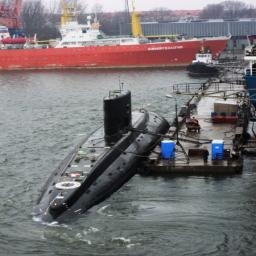submarine: (33, 84, 173, 223)
